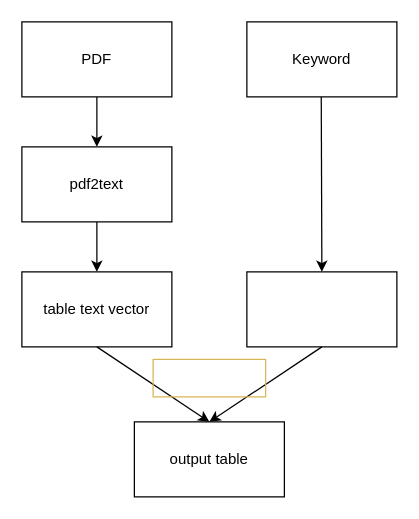
The diagram is 419 pixels wide and 519 high, and some of its shapes have lost their labels. The centre of each missing label's shape, as x and y in pixels:
cosine _sim: [209,377]
text2vector: [321,309]
